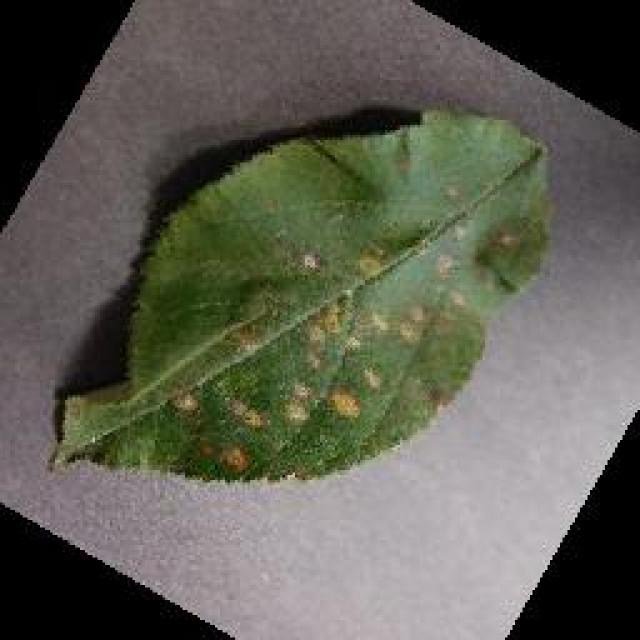apple cedar apple rust: (47, 100, 555, 485)
